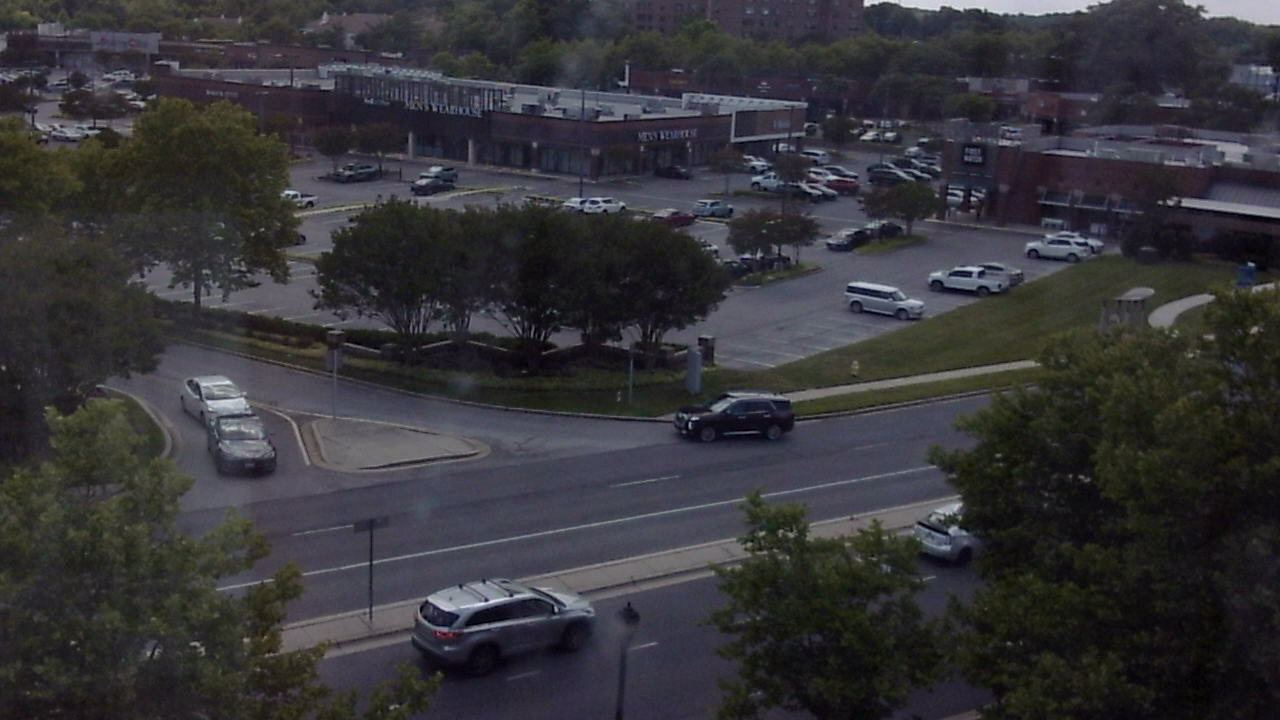Car: (407, 573, 600, 680), (664, 402, 808, 445), (911, 490, 1042, 537), (178, 373, 269, 425), (213, 425, 288, 485)
